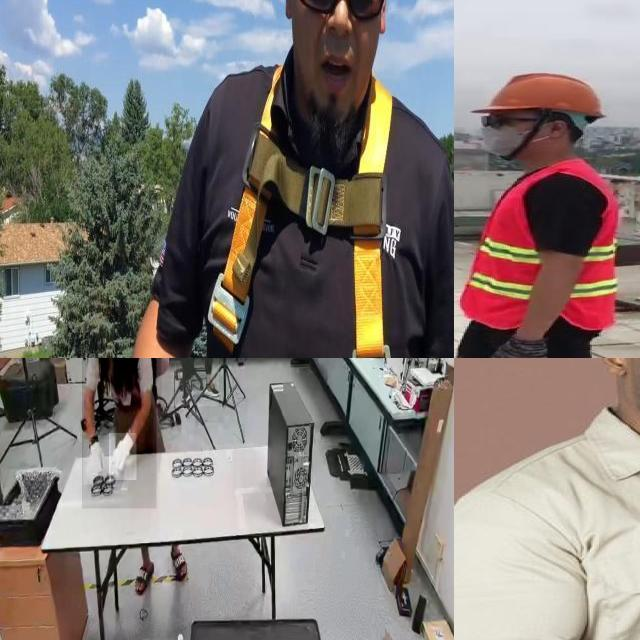Harness: (175, 62, 437, 358)
No_Ear-Protection: (544, 118, 571, 142)
hand_glove: (109, 433, 137, 481), (84, 439, 112, 485)
head_helmet: (481, 68, 605, 118)
person: (454, 65, 640, 358), (82, 358, 157, 509), (161, 358, 219, 407)
vest: (456, 161, 614, 329)
